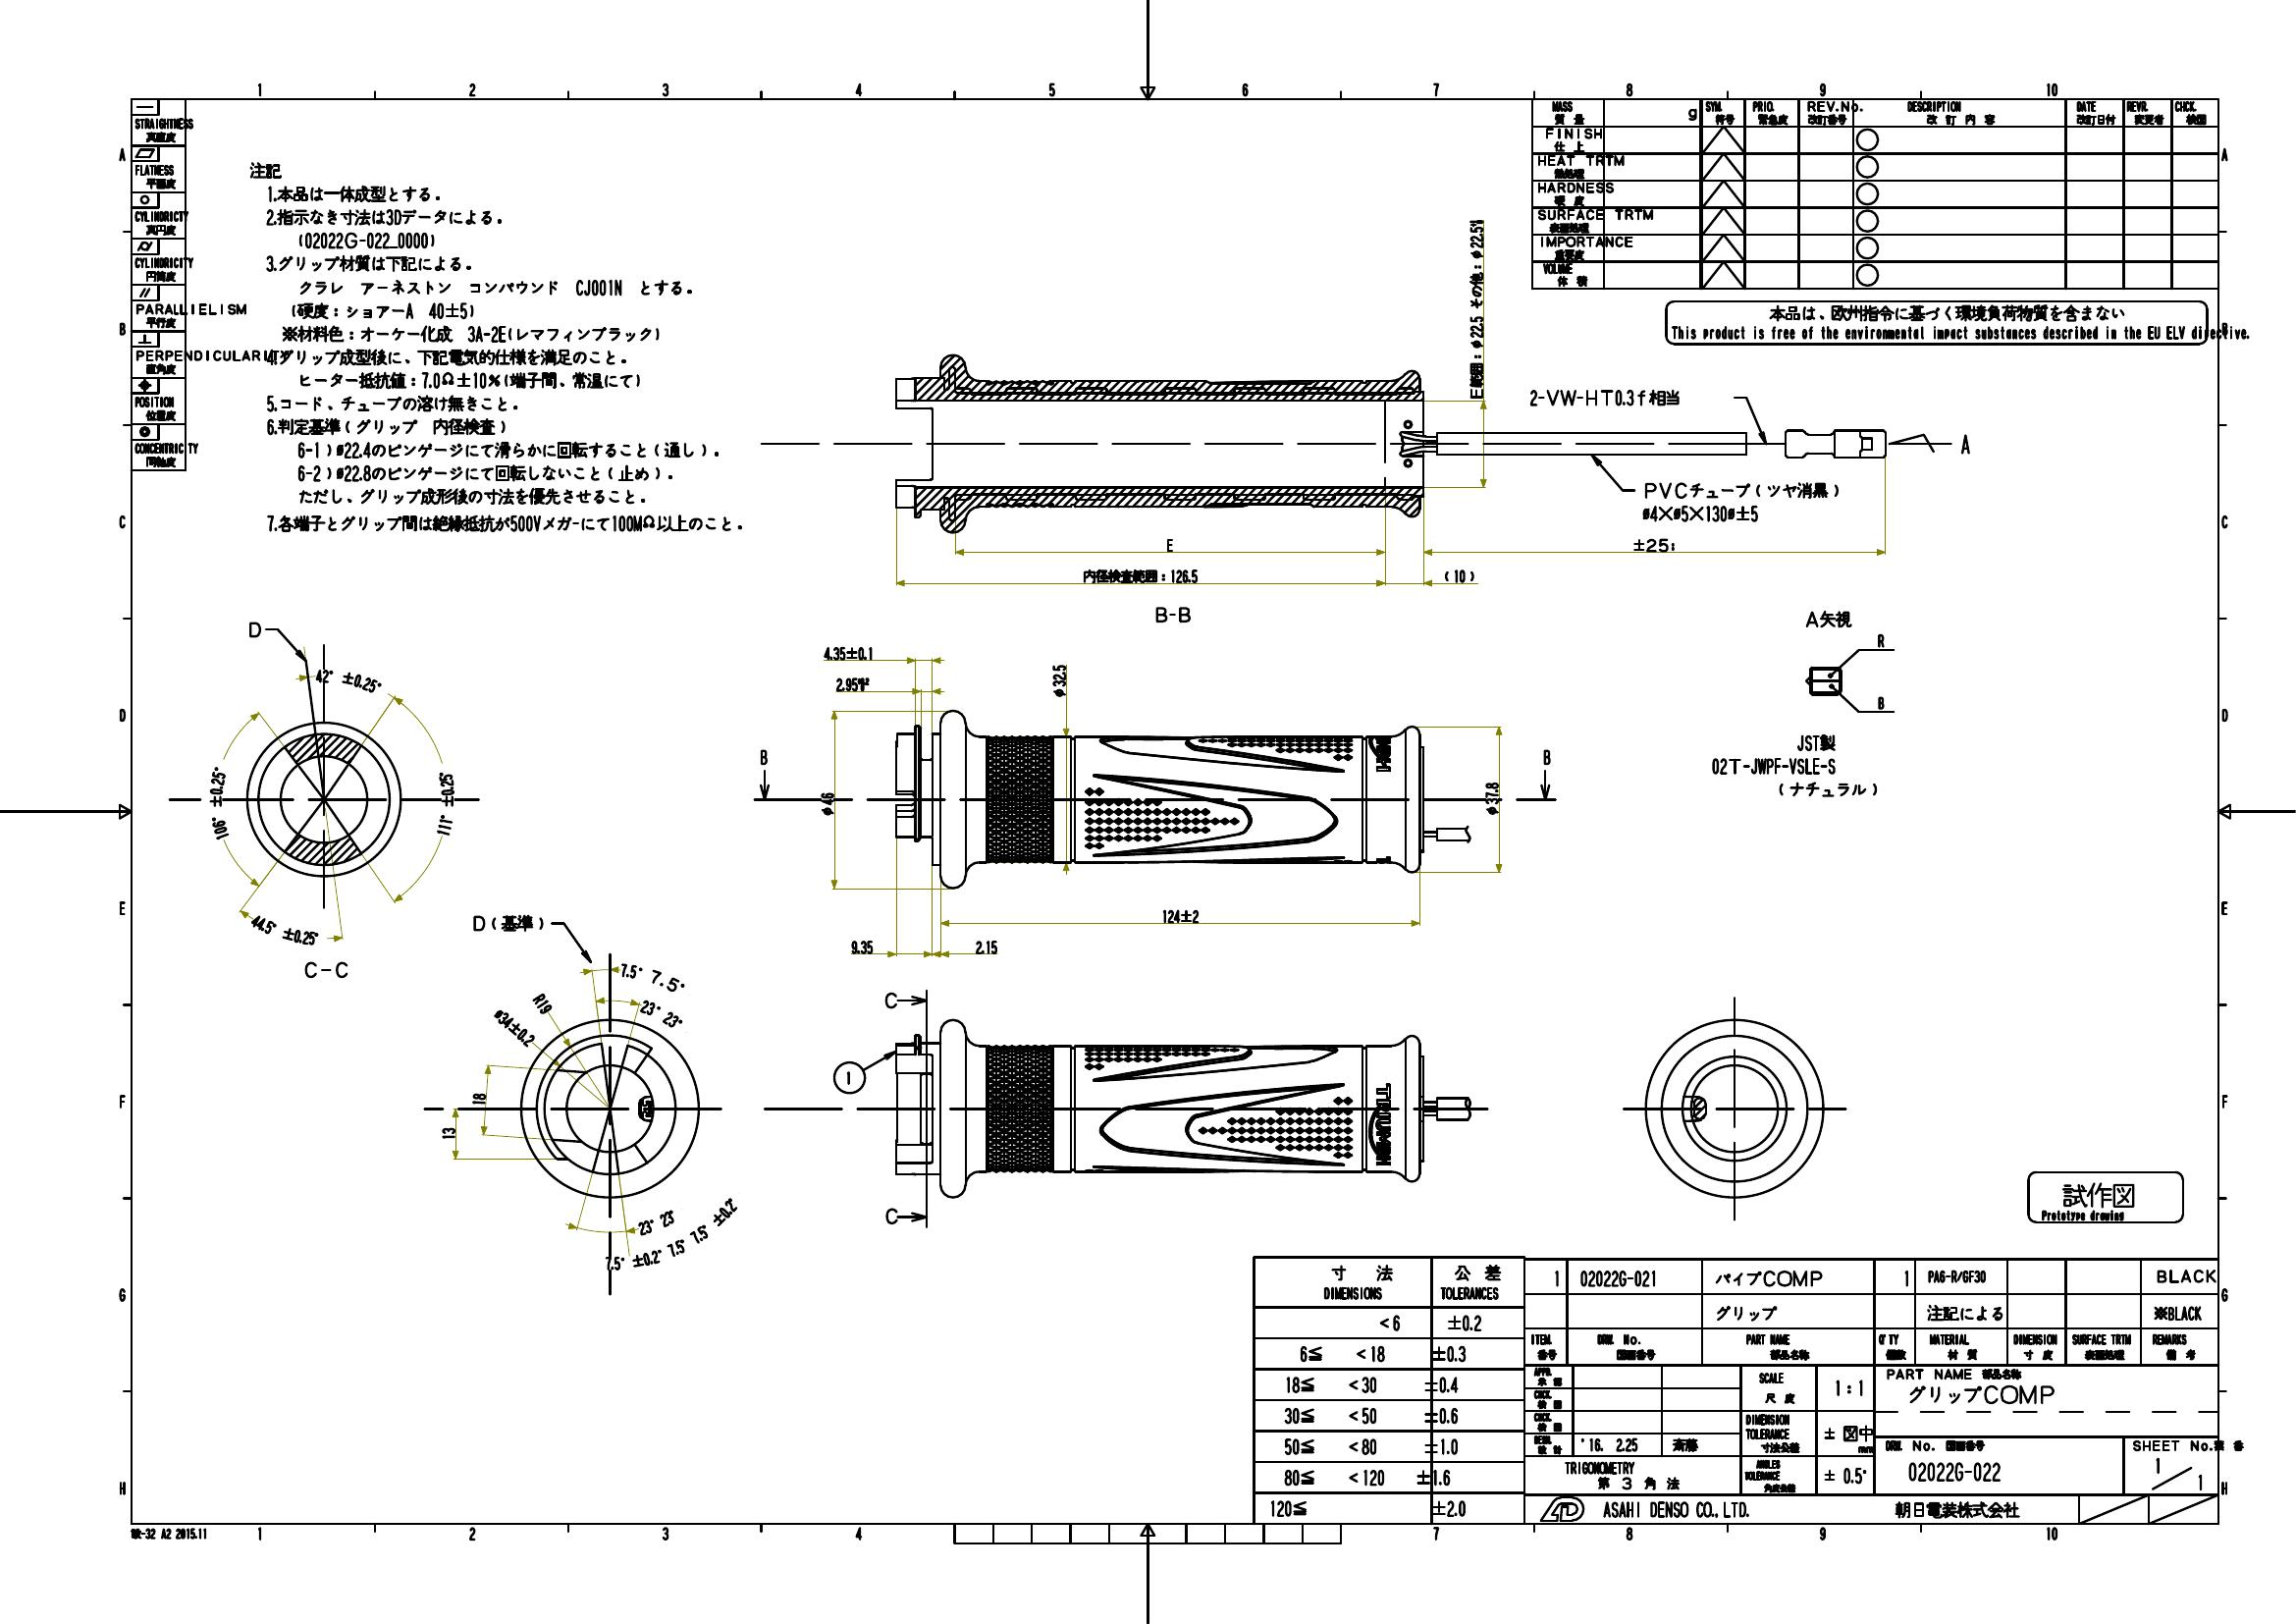anntotation_text: (246, 156, 748, 538), (1664, 299, 2208, 346), (1708, 733, 1883, 800), (2025, 1171, 2185, 1223), (1646, 473, 1839, 501), (1527, 385, 1683, 410), (469, 910, 545, 933), (1079, 566, 1170, 584), (1145, 598, 1200, 626), (300, 958, 358, 979), (130, 1527, 209, 1541), (1799, 608, 1850, 629), (836, 1062, 866, 1093), (1453, 367, 1500, 383), (1451, 278, 1500, 292), (1535, 743, 1560, 768), (880, 1199, 899, 1229), (1955, 429, 1973, 457), (244, 613, 260, 638), (755, 745, 775, 765), (1873, 691, 1890, 710), (882, 991, 899, 1009), (1871, 631, 1888, 649), (1163, 534, 1177, 550)
dimension_text: (1641, 504, 1764, 524), (207, 765, 228, 840), (249, 919, 320, 940), (436, 770, 455, 838), (617, 968, 689, 986), (313, 671, 381, 689), (604, 1251, 666, 1269), (685, 1213, 745, 1229), (822, 643, 878, 659), (634, 1213, 680, 1230), (638, 1007, 685, 1023), (487, 1019, 539, 1033), (1467, 214, 1483, 260), (1632, 536, 1676, 552), (1159, 909, 1202, 923), (1444, 568, 1476, 585), (834, 675, 870, 691), (847, 935, 875, 954), (1049, 664, 1065, 698), (1469, 311, 1483, 348), (1484, 780, 1498, 816), (1170, 568, 1200, 584), (532, 991, 548, 1014), (666, 1241, 687, 1257), (973, 940, 1000, 953), (469, 1091, 487, 1107), (439, 1125, 455, 1141)
object: (896, 353, 1888, 533), (896, 1019, 1474, 1197), (896, 712, 1474, 889), (1643, 1019, 1825, 1200), (522, 1019, 699, 1199), (248, 722, 401, 877), (1804, 666, 1843, 696)
title_block: (1254, 1255, 2219, 1522), (1530, 100, 2217, 288), (130, 98, 186, 473)
